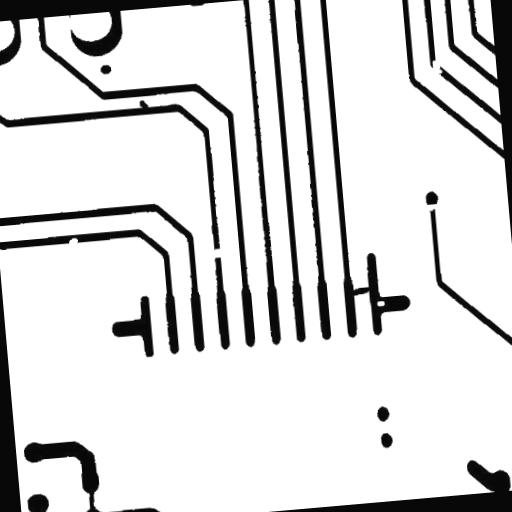copper: (92, 56, 119, 82)
mousebite: (60, 230, 86, 252)
open: (201, 240, 232, 266), (424, 51, 450, 82), (414, 195, 446, 220)
pin-hole: (368, 292, 392, 314)
short: (342, 278, 379, 304), (79, 481, 103, 512)
spur: (131, 92, 156, 116)
